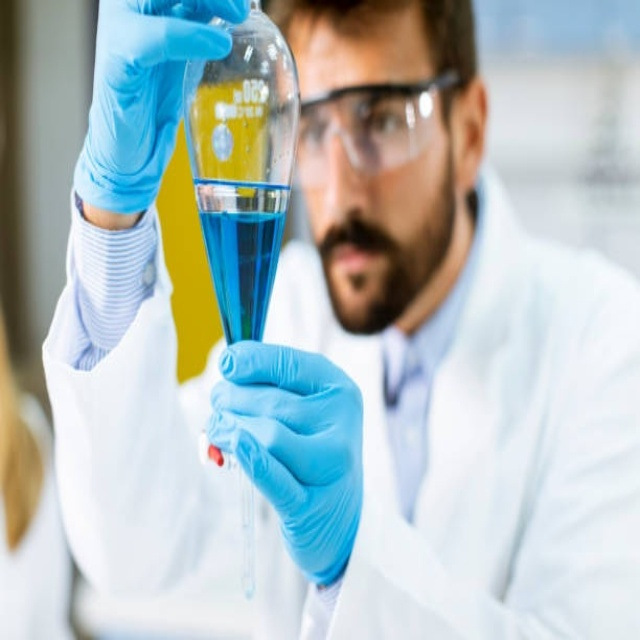Gafas: (290, 70, 461, 178)
Guantes: (206, 326, 365, 576), (70, 3, 255, 215)
Sin_mascara: (311, 220, 398, 306)
